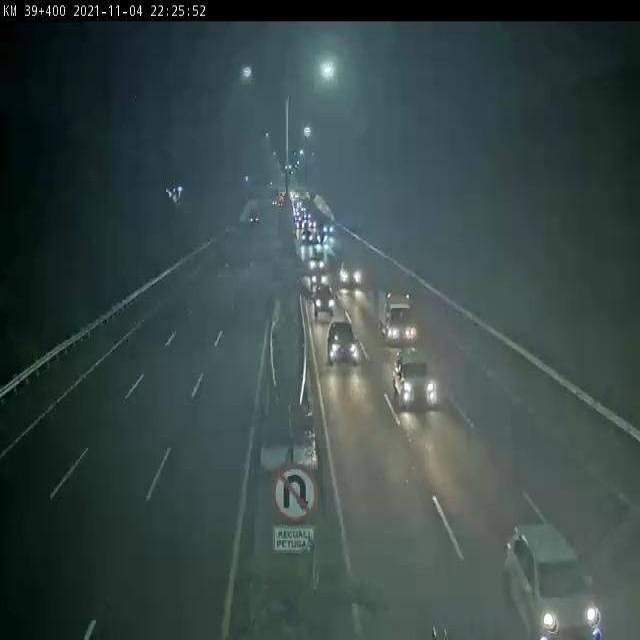car: (504, 518, 601, 640), (392, 348, 440, 409), (325, 316, 358, 365), (312, 285, 336, 319), (337, 260, 361, 288), (308, 264, 328, 291)
truck-s-: (377, 285, 418, 348)
